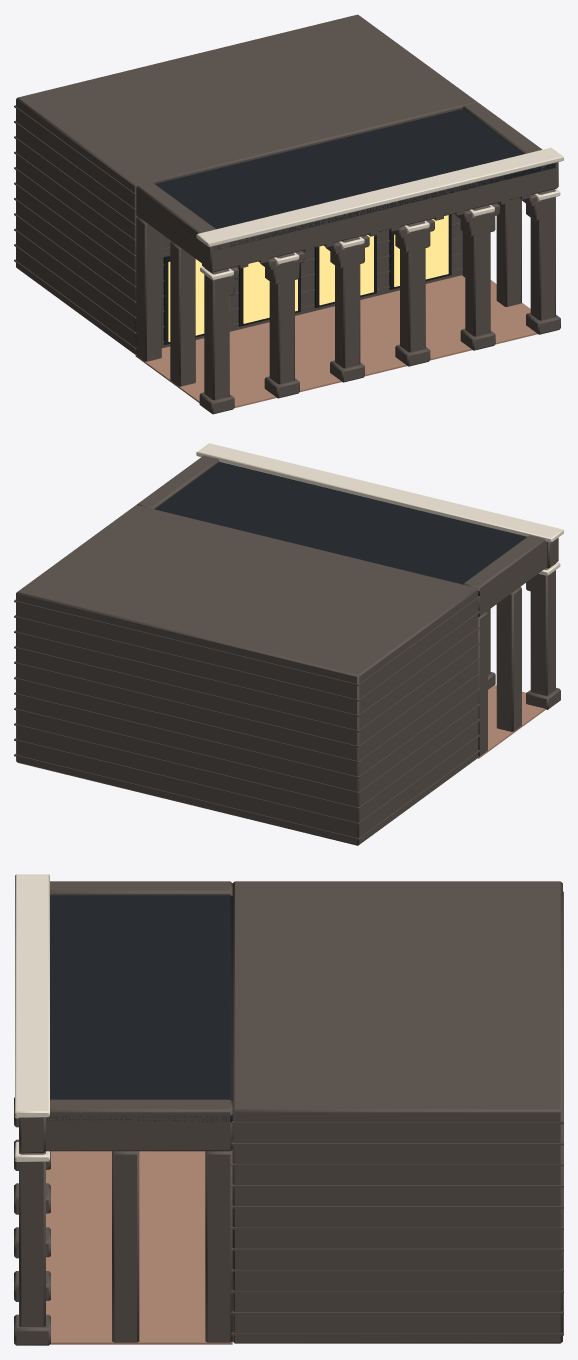
File: recova_base.fbx
3 renders of one model, top to bottom at view 1: azimuth 30°, elevation 25°; view 2: azimuth 150°, elevation 25°; view 3: azimuth 270°, elevation 25°, orthographic. The views are drawn at different scales.
Parts seen in each view (by area): view 1: recova_base; view 2: recova_base; view 3: recova_base.
Part boxes in pixels (x1,y1,x2,y2): recova_base: [14, 14, 563, 414]; recova_base: [14, 443, 563, 845]; recova_base: [14, 874, 563, 1345].
Bounding box in the file's own units: 14.5 × 6.73 × 14.16.
